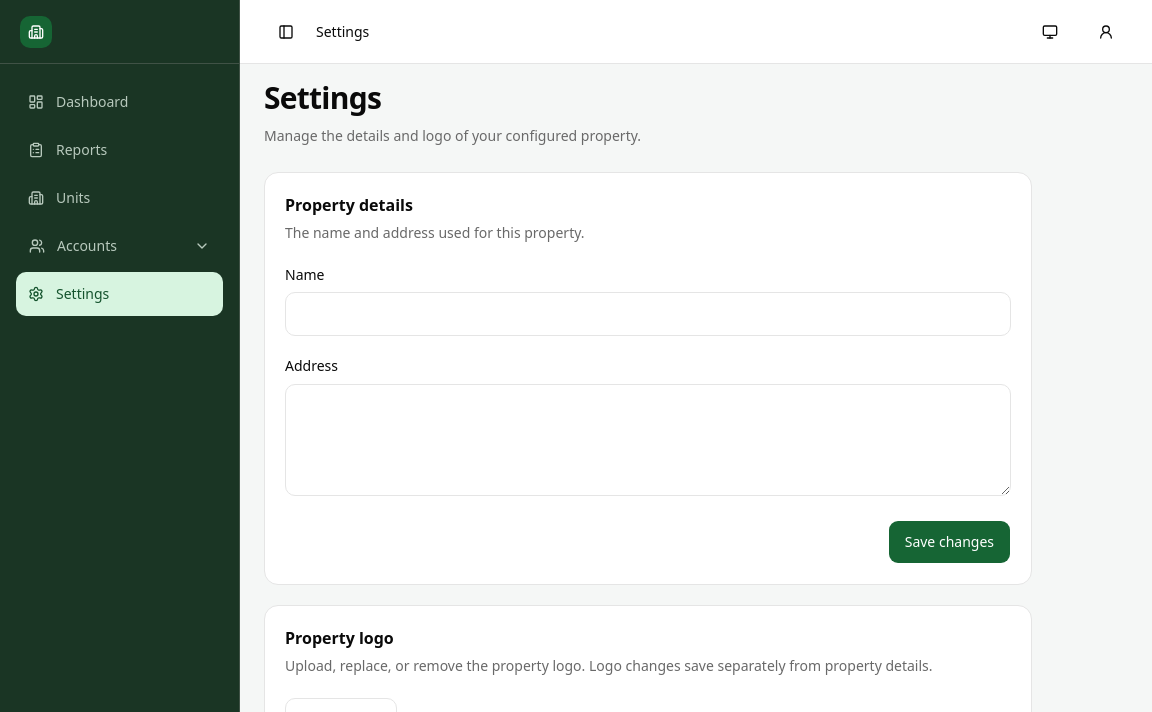
Test: validates untouched required fields on submit and focuses the first error
Click the button "Save changes" at (949, 542), box left=888, top=520, right=1011, bottom=564
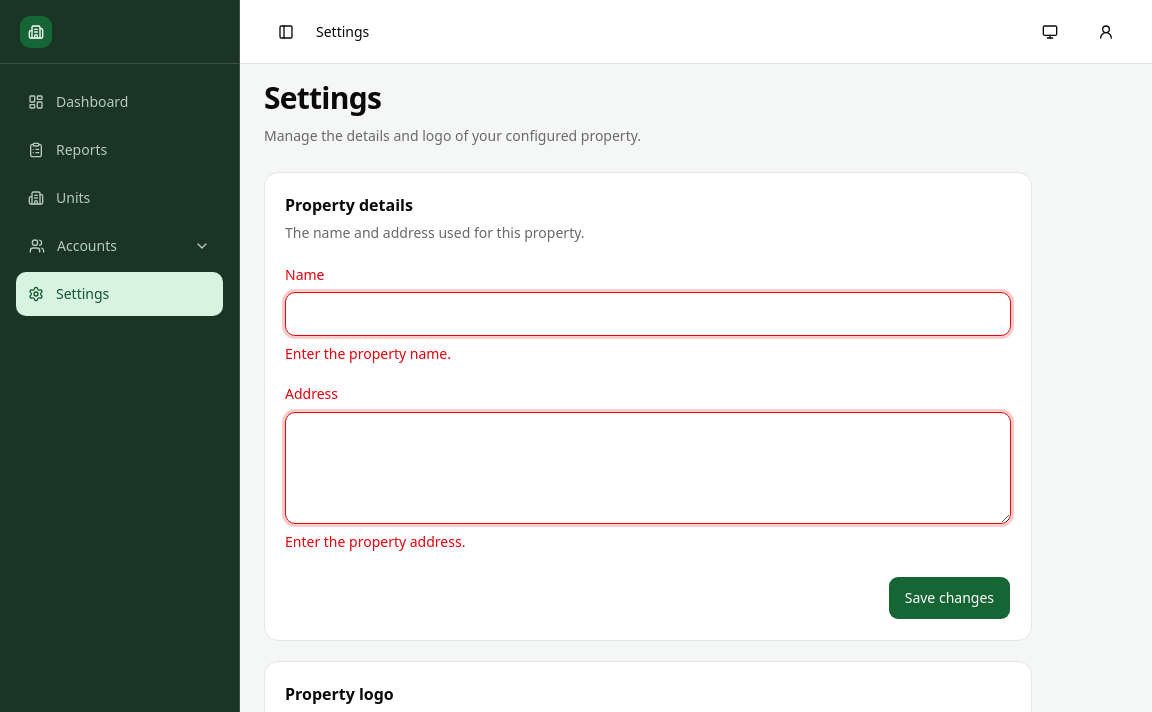
Now the text "Enter the property name." is shown, box left=285, top=344, right=451, bottom=363
Now the text "Enter the property address." is shown, box left=285, top=532, right=465, bottom=550
